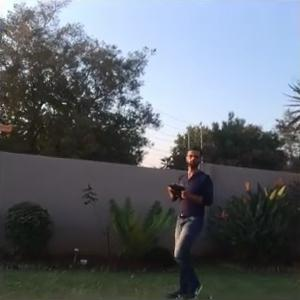follow: (160, 139, 217, 299)
